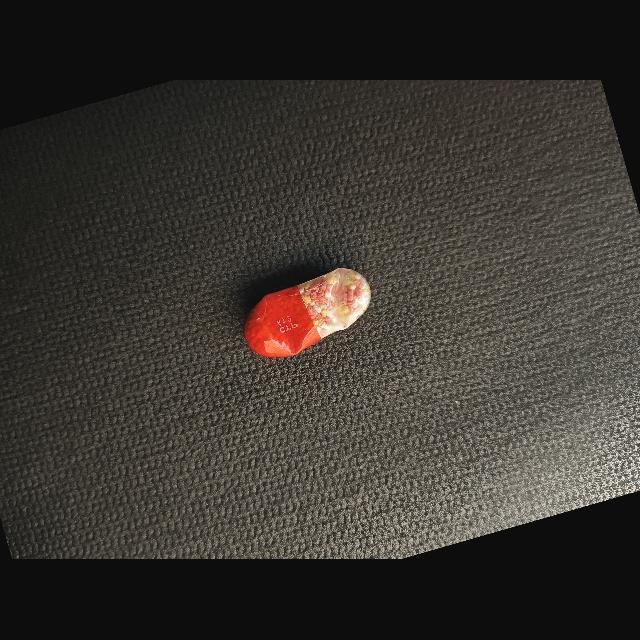Defective Capsule: (243, 268, 371, 358)
